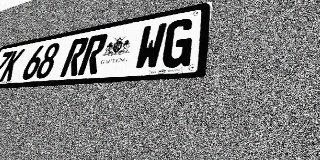6: (20, 44, 48, 80)
8: (33, 42, 62, 79)
G: (160, 17, 196, 69)
K: (0, 49, 25, 82)
R: (77, 33, 109, 75), (59, 37, 90, 77)
W: (133, 22, 167, 71)
Z: (0, 51, 14, 83)
